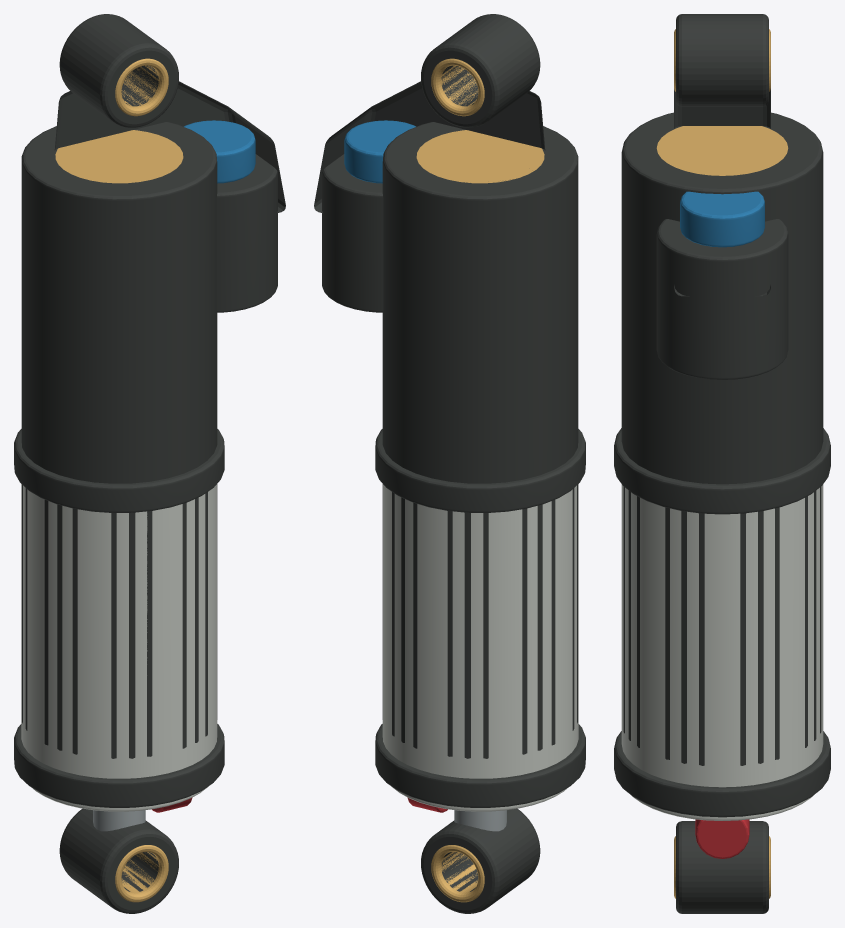
The model's file is fox-float-x2-factory-my26--3dab6d2a.glb.
3 renders of one model, left to right at view 1: azimuth 30°, elevation 25°; view 2: azimuth 150°, elevation 25°; view 3: azimuth 270°, elevation 25°, orthographic. The views are drawn at different scales.
Parts seen in each view (by area): view 1: fox-float-x2-factory-my26--3dab6d2a__link, fox-float-x2-factory-my26--3dab6d2a__frame, fox-float-x2-factory-my26--3dab6d2a__stanchions, fox-float-x2-factory-my26--3dab6d2a__adjuster, fox-float-x2-factory-my26--3dab6d2a__bolts; view 2: fox-float-x2-factory-my26--3dab6d2a__link, fox-float-x2-factory-my26--3dab6d2a__frame, fox-float-x2-factory-my26--3dab6d2a__stanchions, fox-float-x2-factory-my26--3dab6d2a__adjuster, fox-float-x2-factory-my26--3dab6d2a__bolts; view 3: fox-float-x2-factory-my26--3dab6d2a__link, fox-float-x2-factory-my26--3dab6d2a__frame, fox-float-x2-factory-my26--3dab6d2a__stanchions, fox-float-x2-factory-my26--3dab6d2a__adjuster, fox-float-x2-factory-my26--3dab6d2a__rebound.
Part boxes in pixels (x1,y1,x2,y2): fox-float-x2-factory-my26--3dab6d2a__link: (14,14,285,913); fox-float-x2-factory-my26--3dab6d2a__frame: (21,484,217,811); fox-float-x2-factory-my26--3dab6d2a__stanchions: (55,58,183,902); fox-float-x2-factory-my26--3dab6d2a__adjuster: (184,120,255,183); fox-float-x2-factory-my26--3dab6d2a__bolts: (93,810,145,831); fox-float-x2-factory-my26--3dab6d2a__link: (314,14,585,913); fox-float-x2-factory-my26--3dab6d2a__frame: (382,484,578,811); fox-float-x2-factory-my26--3dab6d2a__stanchions: (416,58,544,902); fox-float-x2-factory-my26--3dab6d2a__adjuster: (344,120,415,183); fox-float-x2-factory-my26--3dab6d2a__bolts: (454,810,506,831); fox-float-x2-factory-my26--3dab6d2a__link: (614,14,830,913); fox-float-x2-factory-my26--3dab6d2a__frame: (621,484,823,820); fox-float-x2-factory-my26--3dab6d2a__stanchions: (656,29,788,898); fox-float-x2-factory-my26--3dab6d2a__adjuster: (680,191,764,247); fox-float-x2-factory-my26--3dab6d2a__rebound: (695,819,749,858).
Bounding box in the file's own units: 0.074 × 0.254 × 0.056.
